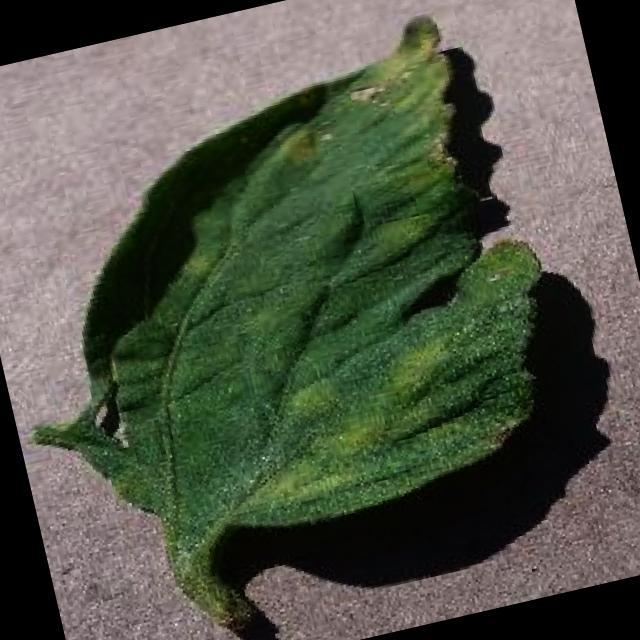Tomato mold leaf: (0, 0, 589, 579)
